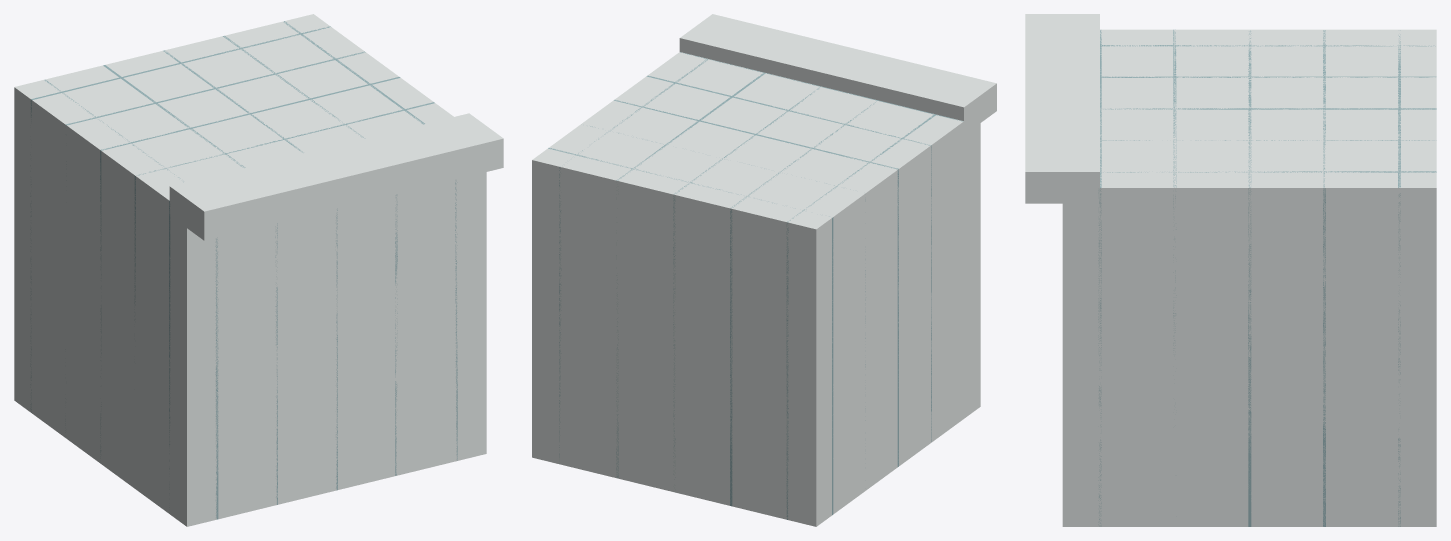
Rendered from PR_pool_tile_block.fbx.
The picture shows the model from 3 angles, left to right: view 1: azimuth 30°, elevation 25°; view 2: azimuth 150°, elevation 25°; view 3: azimuth 270°, elevation 25°; orthographic projection. The views are drawn at different scales.
Parts seen in each view (by area): view 1: PR_pool_tile_block; view 2: PR_pool_tile_block; view 3: PR_pool_tile_block.
Boxes of the visible parts, x1,y1,x2,y2 form: PR_pool_tile_block: [14, 14, 503, 526]; PR_pool_tile_block: [532, 14, 996, 526]; PR_pool_tile_block: [1025, 14, 1436, 526].
Size of the model in its own units: 1.5 by 1.57 by 1.65.
